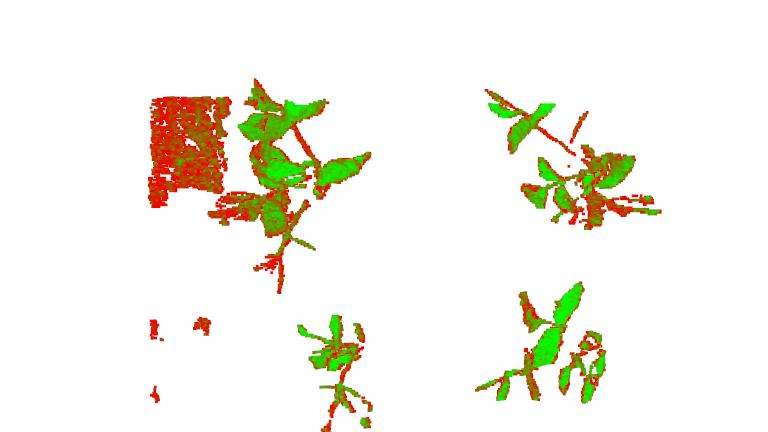mungbean: (237, 75, 368, 286), (480, 81, 666, 227), (472, 284, 610, 409), (293, 313, 379, 432)
